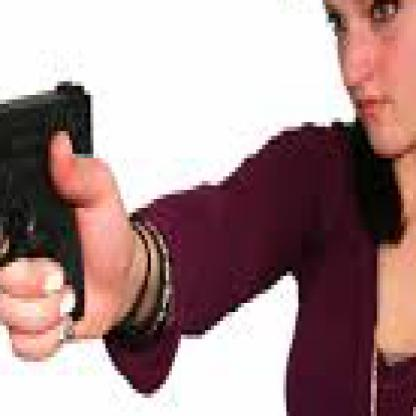gun: (0, 67, 97, 340)
